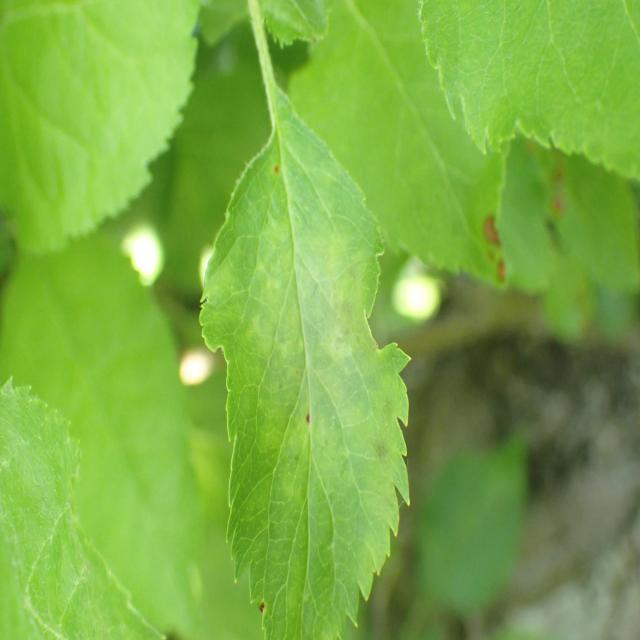scab: (228, 144, 400, 612)
